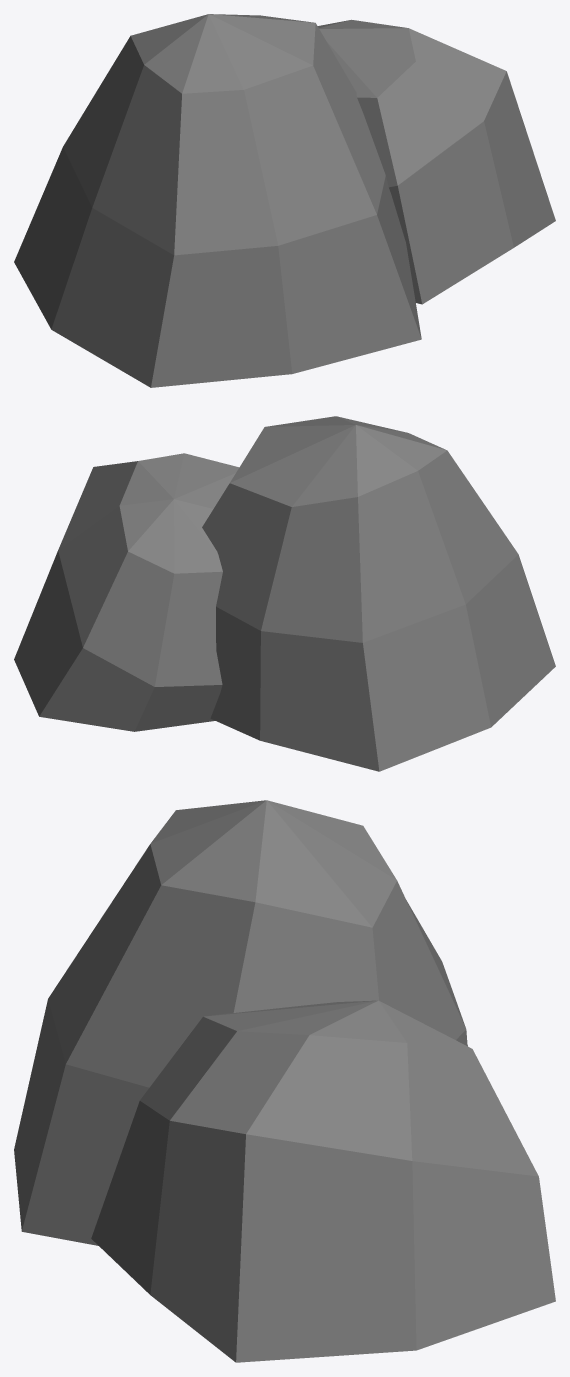
The model's file is rock4grisfonce.FBX.
3 views of the same model, one above another, from view 1: azimuth 30°, elevation 25°; view 2: azimuth 150°, elevation 25°; view 3: azimuth 270°, elevation 25° (orthographic). The views are drawn at different scales.
Parts seen in each view (by area): view 1: Box001, Box003; view 2: Box001, Box003; view 3: Box003, Box001.
Part boxes in pixels (x1,y1,x2,y2): Box001: [14, 14, 421, 387]; Box003: [318, 19, 555, 304]; Box001: [202, 416, 555, 771]; Box003: [14, 453, 239, 731]; Box003: [91, 1000, 555, 1362]; Box001: [14, 800, 467, 1245].
Bounding box in the file's own units: 16.92 × 9.55 × 12.87.
